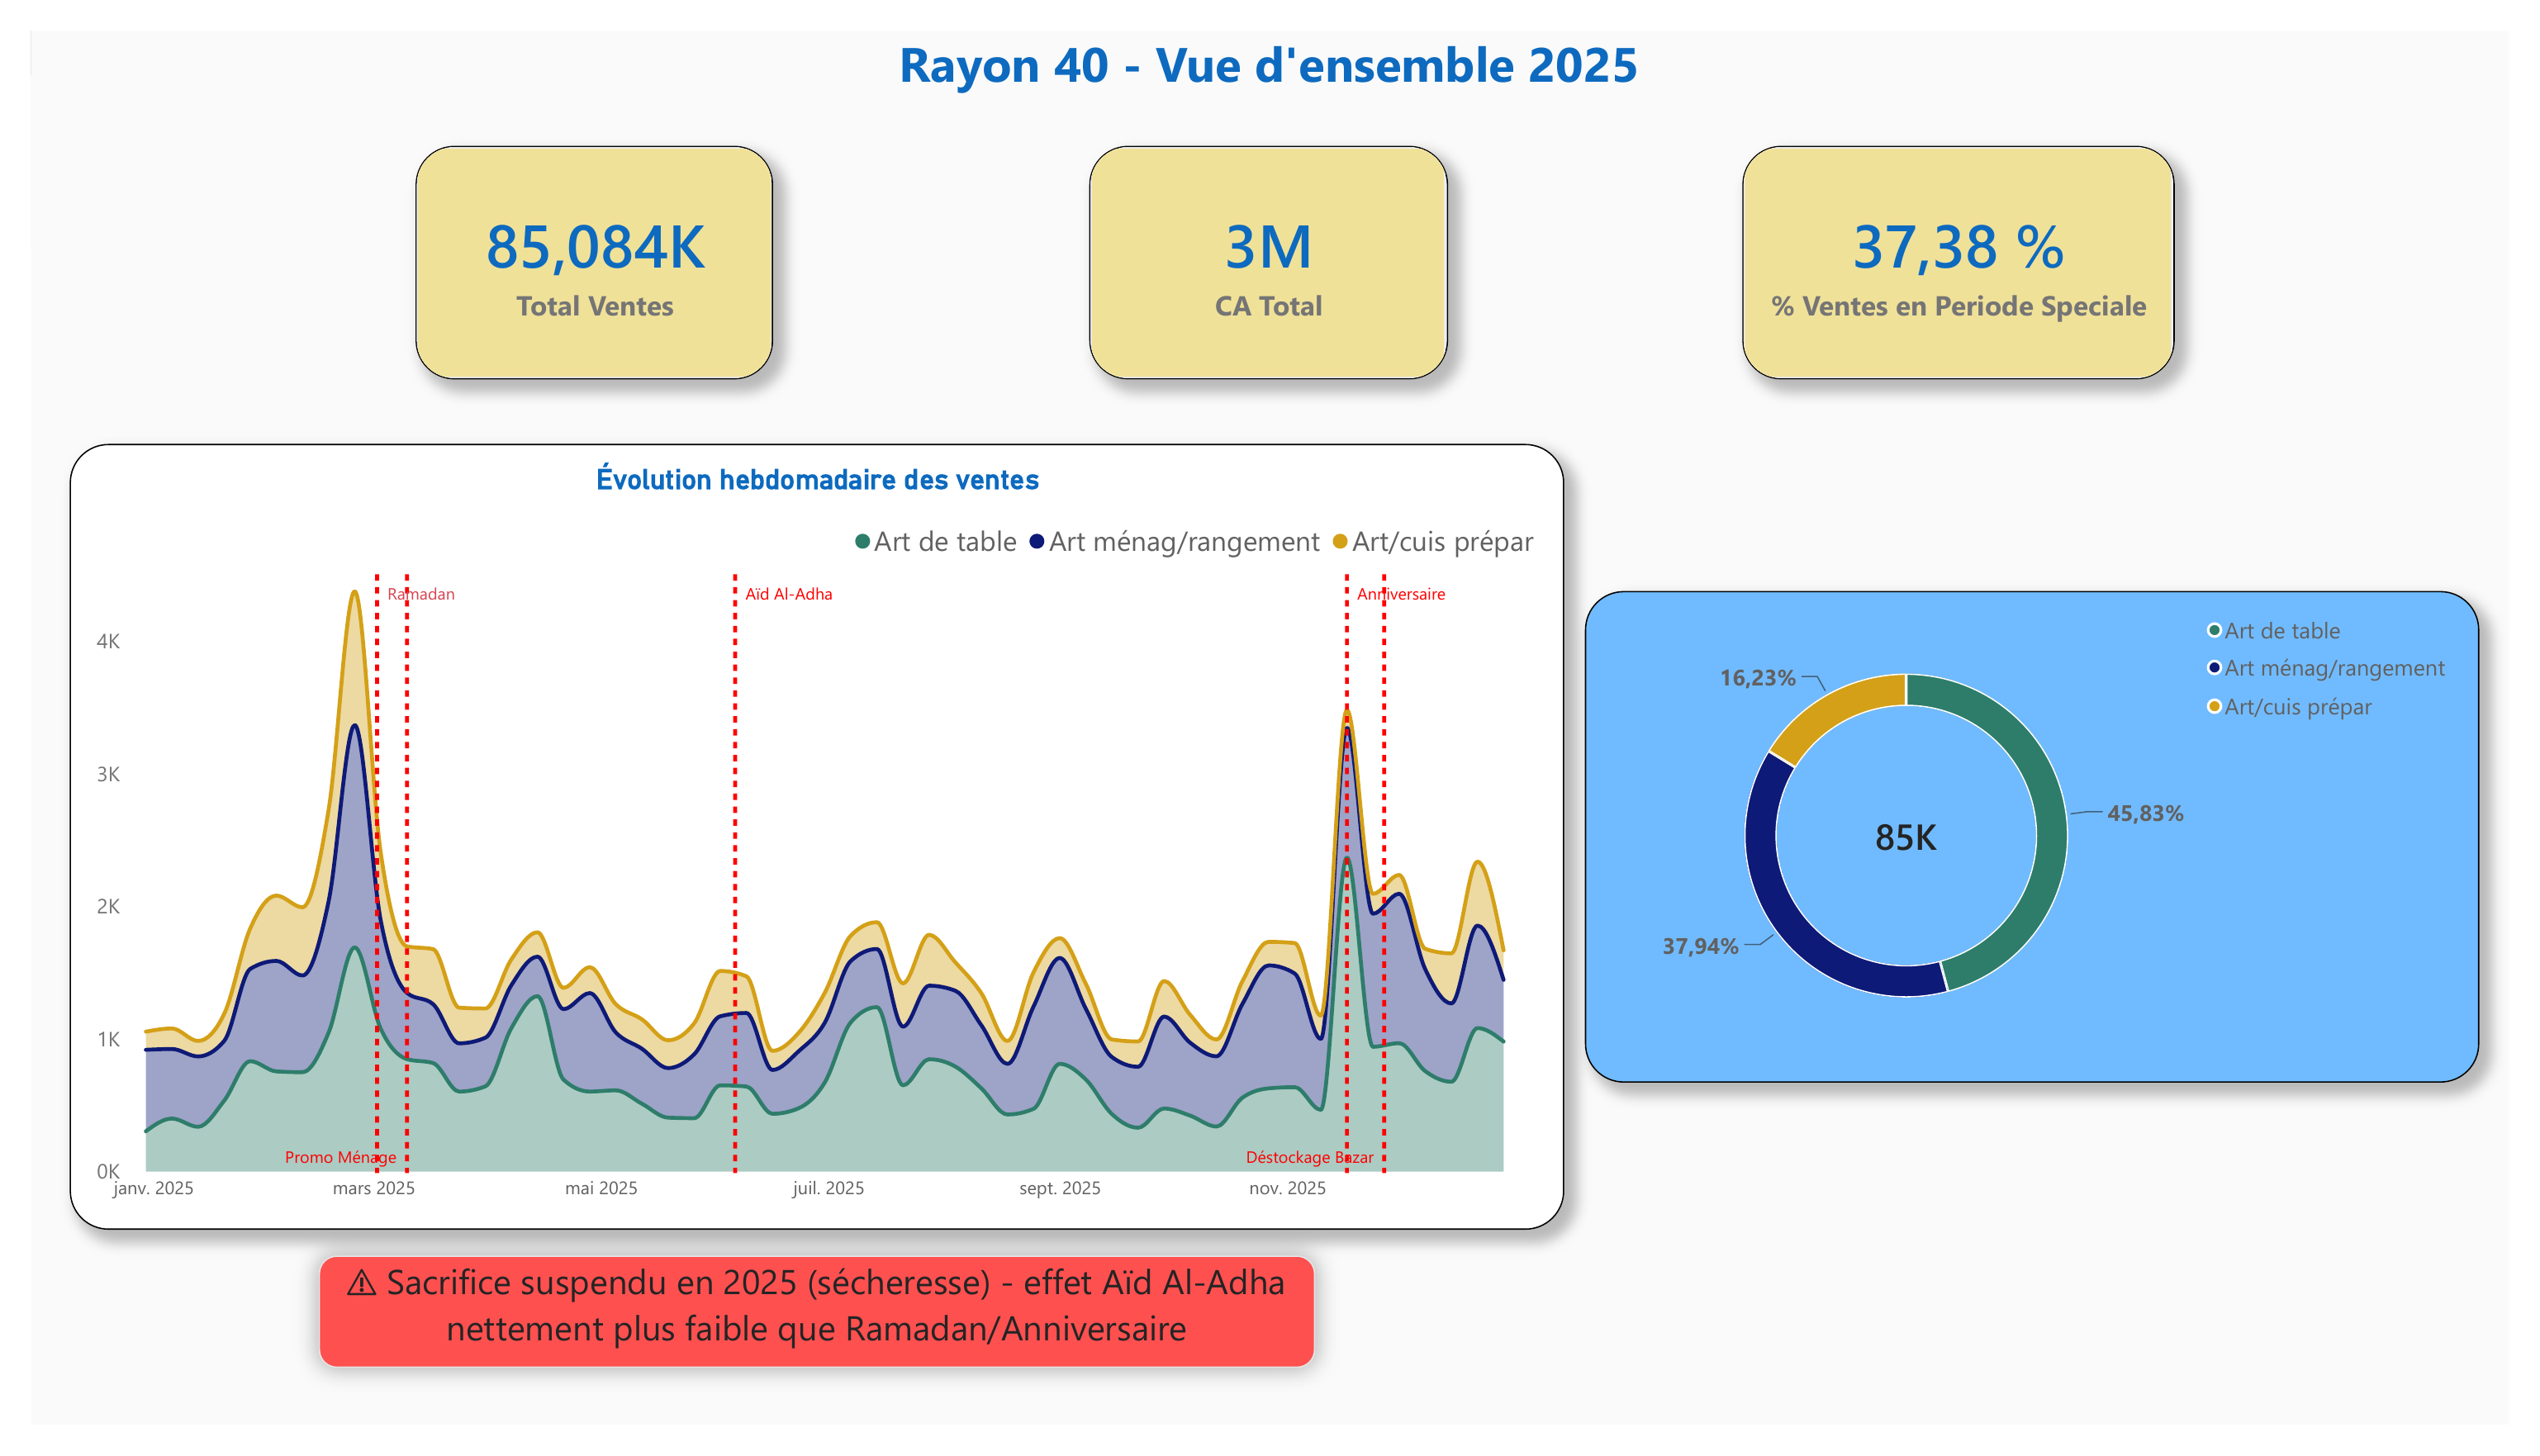

What the dashboard file says about the page in this screenshot:
{"tool":"powerbi","page":{"name":" Vue d'ensemble","canvas":[1920,1080],"ordinal":0},"visuals":[{"type":"cardVisual","fields":{"Data":["Mesures.Total Ventes"]},"box":[297.5,88.6,277.8,181.4],"z":0},{"type":"textbox","box":[0,0,1919.1,70.9],"z":1000},{"type":"cardVisual","fields":{"Data":["Mesures.% Ventes en Periode Speciale"]},"box":[1326.4,88.6,334.5,181.4],"z":2000},{"type":"cardVisual","fields":{"Data":["Mesures.CA Total"]},"box":[819.9,88.6,277.8,181.4],"z":3000},{"type":"stackedAreaChart","title":"Évolution hebdomadaire des ventes","fields":{"Category":["ventes_hebdo_features.semaine"],"Series":["ventes_hebdo_features.Nom Famille"],"Y":["Sum(ventes_hebdo_features.qte_semaine)"]},"box":[29.5,320.3,1158.4,608.7],"z":4000},{"type":"donutChart","fields":{"Category":["ventes_hebdo_features.Nom Famille"],"Y":["Sum(ventes_hebdo_features.qte_semaine)"]},"box":[1203.8,433.8,692.7,381.6],"z":5000},{"type":"textbox","box":[222.6,949.4,772.2,86.3],"z":6000}]}

Visuals, with their boxes on the page's 1920x1080 design canvas (x1, y1, x2, y2). These are canvas units, not pixel positions in the 2540x1456 screenshot, which may show the page scaled, cropped or inside an application window:
cardVisual - Mesures.Total Ventes: l=298, t=89, r=575, b=270
textbox: l=0, t=0, r=1919, b=71
cardVisual - Mesures.% Ventes en Periode Speciale: l=1326, t=89, r=1661, b=270
cardVisual - Mesures.CA Total: l=820, t=89, r=1098, b=270
"Évolution hebdomadaire des ventes" stackedAreaChart: l=30, t=320, r=1188, b=929
donutChart - ventes_hebdo_features.Nom Famille x Sum(ventes_hebdo_features.qte_semaine): l=1204, t=434, r=1896, b=815
textbox: l=223, t=949, r=995, b=1036
